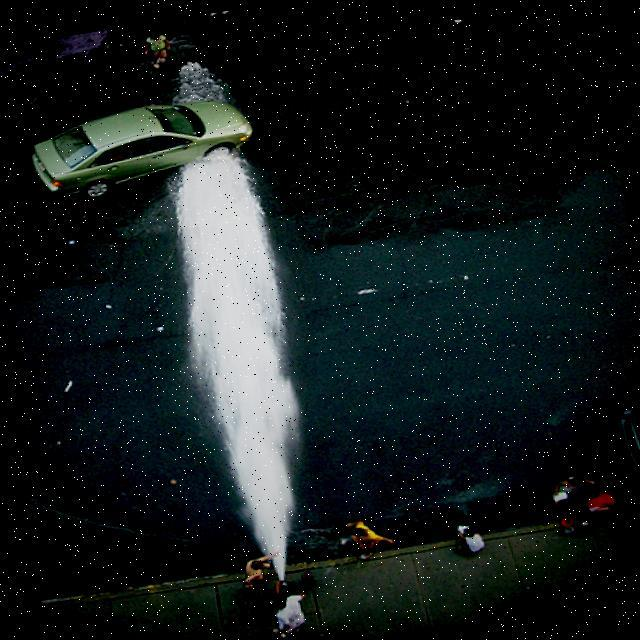fire_hydrant: (276, 578, 292, 598)
